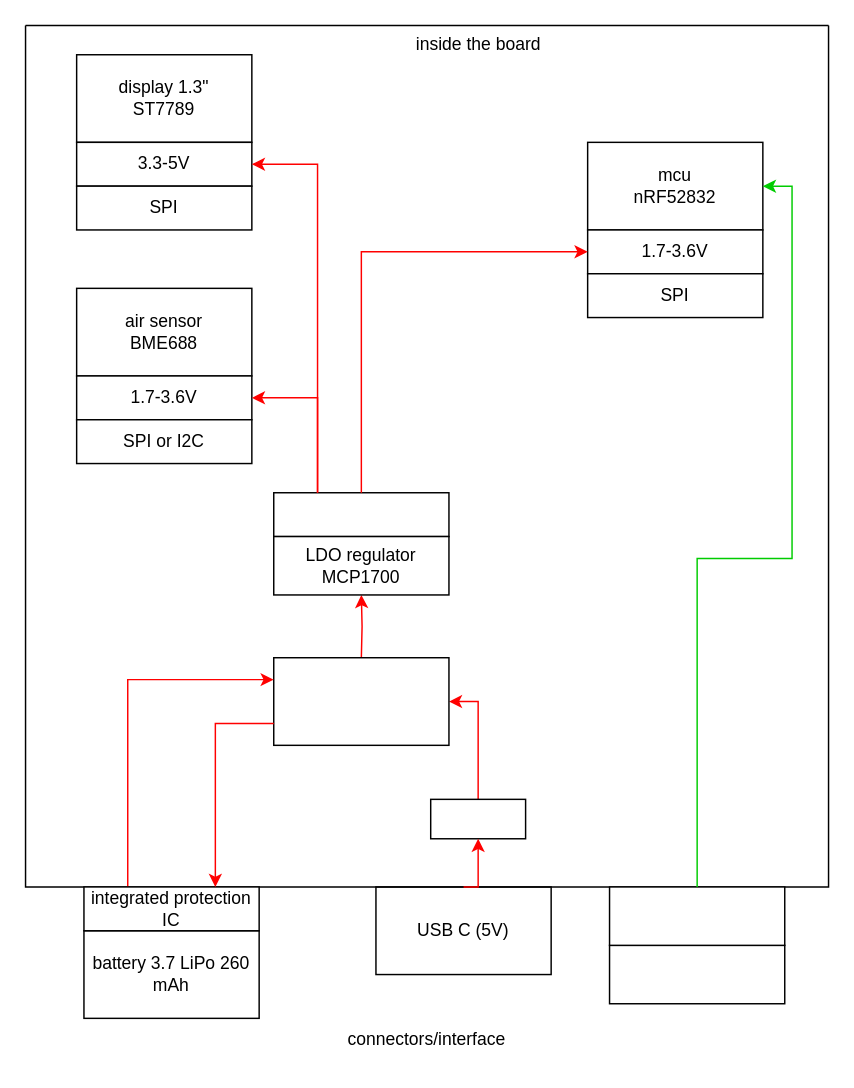
This 854x1088 diagram has some shape labels left out. The shapes that lost their labels are listed below. From the top down, each one's centre as x and y in pixels, then its label:
[360,514]: 3.3V
[360,700]: MCP73871
[477,818]: resettable fuse
[696,915]: tag-connect
[696,974]: flashing device
